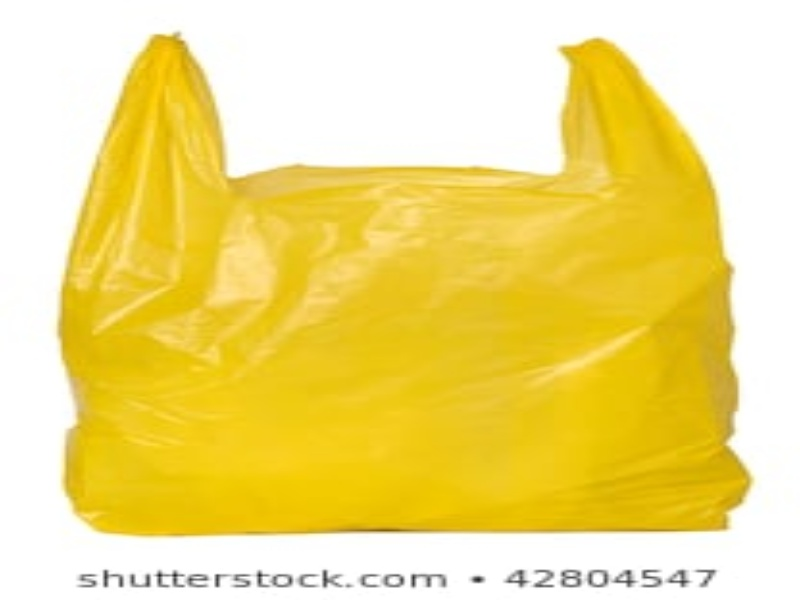plastic-bag: (49, 30, 756, 539)
